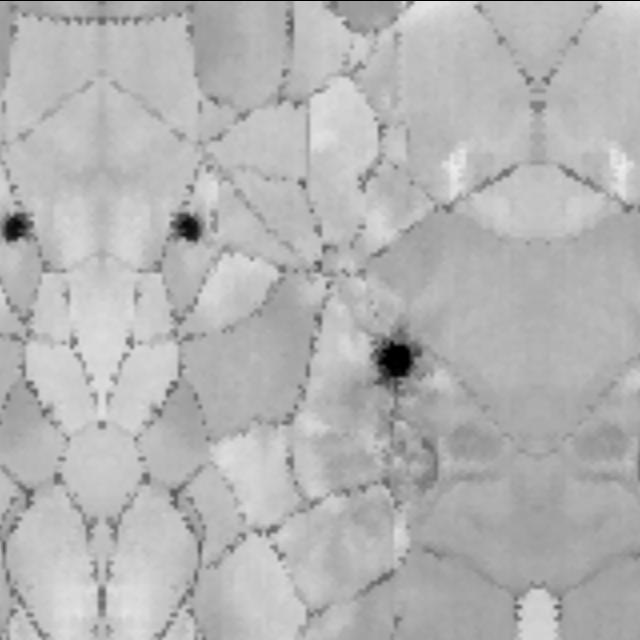good_void: (373, 425, 453, 517), (359, 323, 427, 387), (164, 204, 216, 250), (0, 204, 40, 249), (167, 483, 201, 534), (3, 483, 37, 534)
